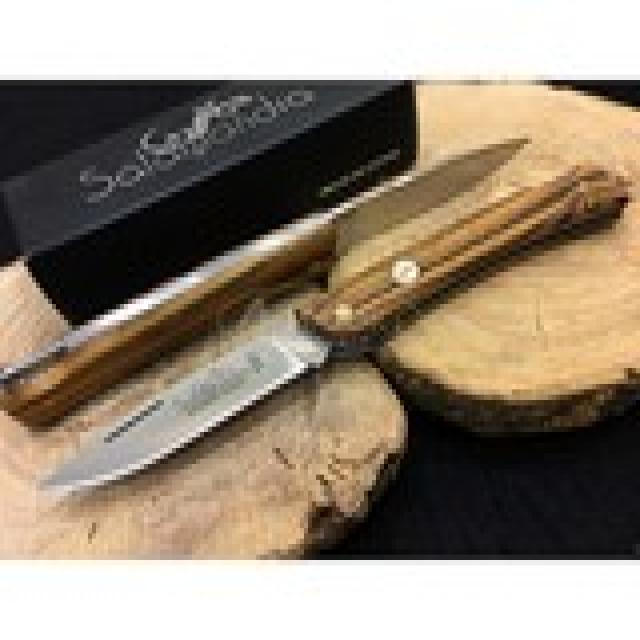Knife: (28, 134, 628, 510)
